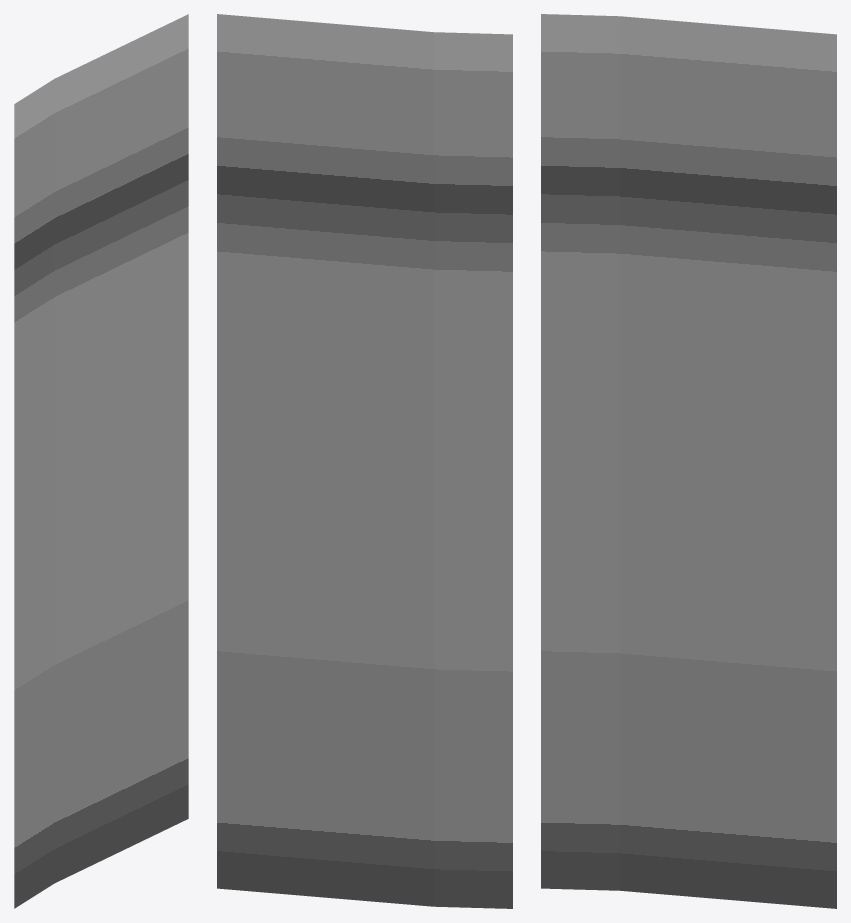
3 renders of one model, left to right at view 1: azimuth 30°, elevation 25°; view 2: azimuth 150°, elevation 25°; view 3: azimuth 330°, elevation 25°, orthographic. The views are drawn at different scales.
Size of the model in its own units: 0.8717 by 3 by 0.3299.
1 material, 1 textured.
